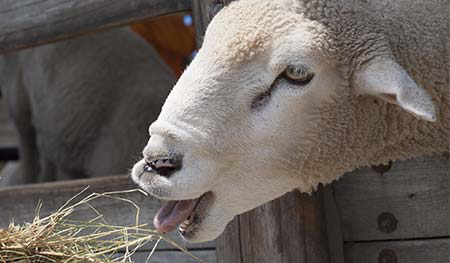koyun: (131, 1, 442, 243)
